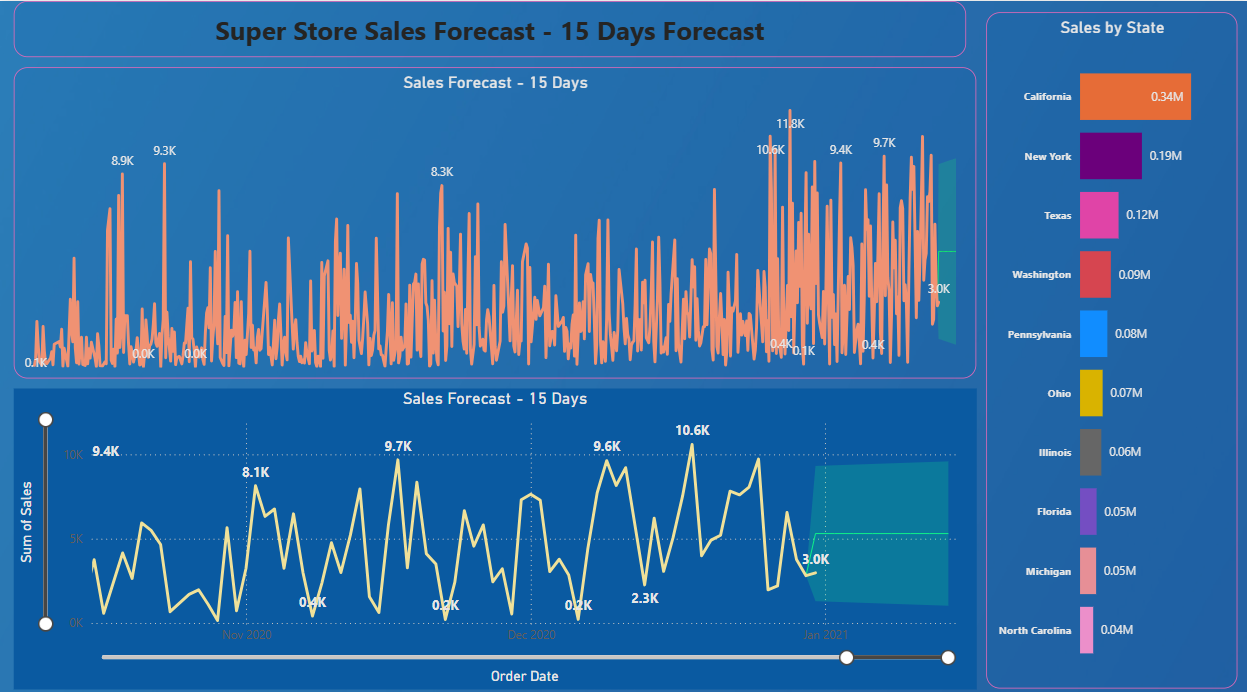

The dashboard page shown, as its layout file describes it:
{"tool":"powerbi","page":{"name":"Super Store Sales Forecast","canvas":[1280,720],"ordinal":1},"visuals":[{"type":"lineChart","title":"Sales Forecast - 15 Days","fields":{"Y":["Sum(SuperStore_Sales_Dataset.Sales)"],"Category":["SuperStore_Sales_Dataset.Order Date"]},"box":[14.1,67.9,987.2,319.2],"z":0},{"type":"clusteredBarChart","title":"Sales by State","fields":{"Category":["SuperStore_Sales_Dataset.State"],"Y":["Sum(SuperStore_Sales_Dataset.Sales)"]},"box":[1011.5,11.5,257.7,693.6],"z":1000},{"type":"textbox","box":[14.1,0,976.9,57.7],"z":2000},{"type":"lineChart","title":"Sales Forecast - 15 Days","fields":{"Category":["SuperStore_Sales_Dataset.Order Date"],"Y":["Sum(SuperStore_Sales_Dataset.Sales)"]},"box":[14.1,397.4,987.2,307.7],"z":3000}]}

Visuals, with their boxes in screenshot pixels (x1, y1, x2, y2), scaled from the page's 1280x720 canvas onto the 1247x692 screenshot:
"Sales Forecast - 15 Days" lineChart: (x1=14, y1=65, x2=975, y2=372)
"Sales by State" clusteredBarChart: (x1=985, y1=11, x2=1236, y2=678)
textbox: (x1=14, y1=0, x2=965, y2=55)
"Sales Forecast - 15 Days" lineChart: (x1=14, y1=382, x2=975, y2=678)
